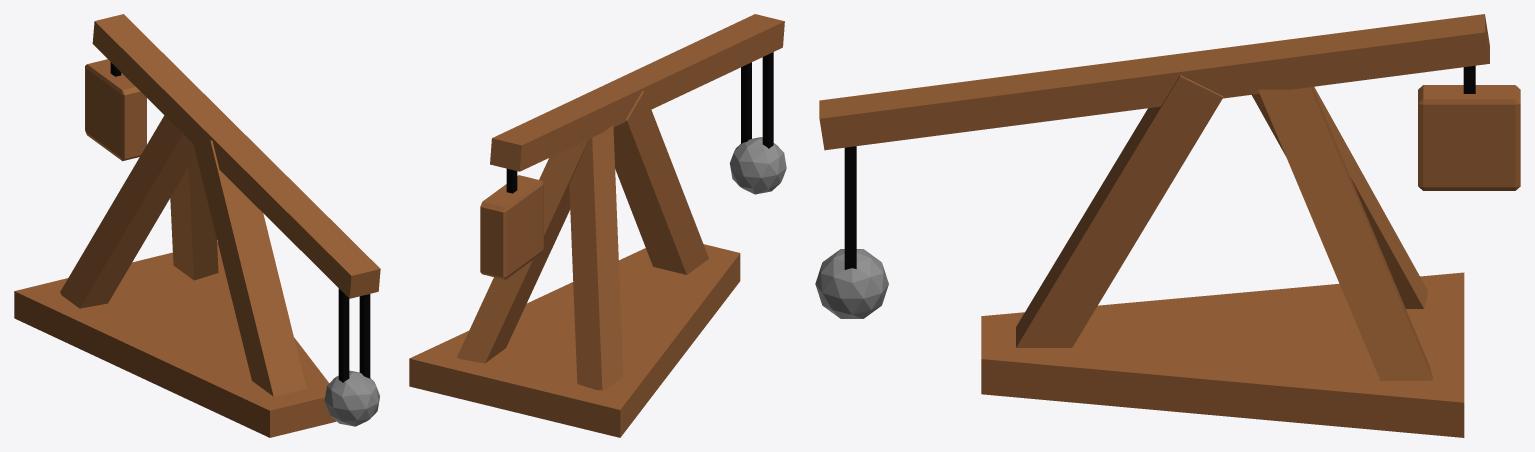
File: tile_trebuchet.fbx
3 renders of one model, left to right at view 1: azimuth 30°, elevation 25°; view 2: azimuth 150°, elevation 25°; view 3: azimuth 270°, elevation 25°, orthographic. The views are drawn at different scales.
Parts seen in each view (by area): view 1: Cube, Cube.004, Cube.003, Cube.001, Cube.008, Cube.002, Icosphere, Cube.006, Cube.005; view 2: Cube, Cube.004, Cube.001, Cube.003, Cube.002, Cube.008, Icosphere, Cube.006, Cube.005; view 3: Cube, Cube.004, Cube.003, Cube.002, Cube.008, Cube.001, Icosphere, Cube.005.
Boxes of the visible parts, x1,y1,x2,y2 form: Cube: (14,241,336,437); Cube.004: (92,14,380,298); Cube.003: (193,140,306,396); Cube.001: (60,115,195,308); Cube.008: (85,59,146,161); Cube.002: (170,155,218,280); Icosphere: (324,370,379,426); Cube.006: (338,288,349,382); Cube.005: (359,294,370,378); Cube: (409,244,740,437); Cube.004: (490,14,784,171); Cube.001: (569,125,623,390); Cube.003: (613,91,708,274); Cube.002: (457,139,588,363); Cube.008: (480,175,543,279); Icosphere: (729,137,786,194); Cube.006: (762,52,773,148); Cube.005: (741,62,751,143); Cube: (981,272,1464,437); Cube.004: (819,14,1489,150); Cube.003: (1016,75,1223,347); Cube.002: (1258,87,1433,380); Cube.008: (1418,85,1520,190); Cube.001: (1252,86,1427,308); Icosphere: (815,249,888,318); Cube.005: (844,146,856,269).
Size of the model in its own units: 607 by 760 by 1390.
